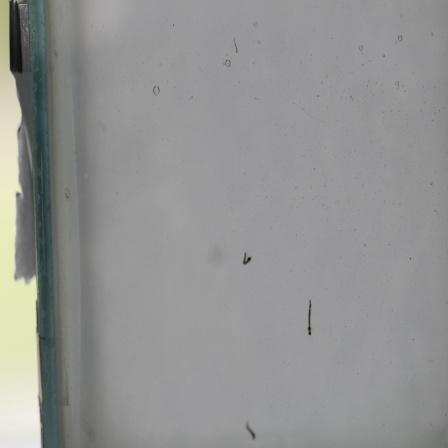Jentik-Nyamuk: (303, 296, 315, 342), (238, 248, 256, 271)
